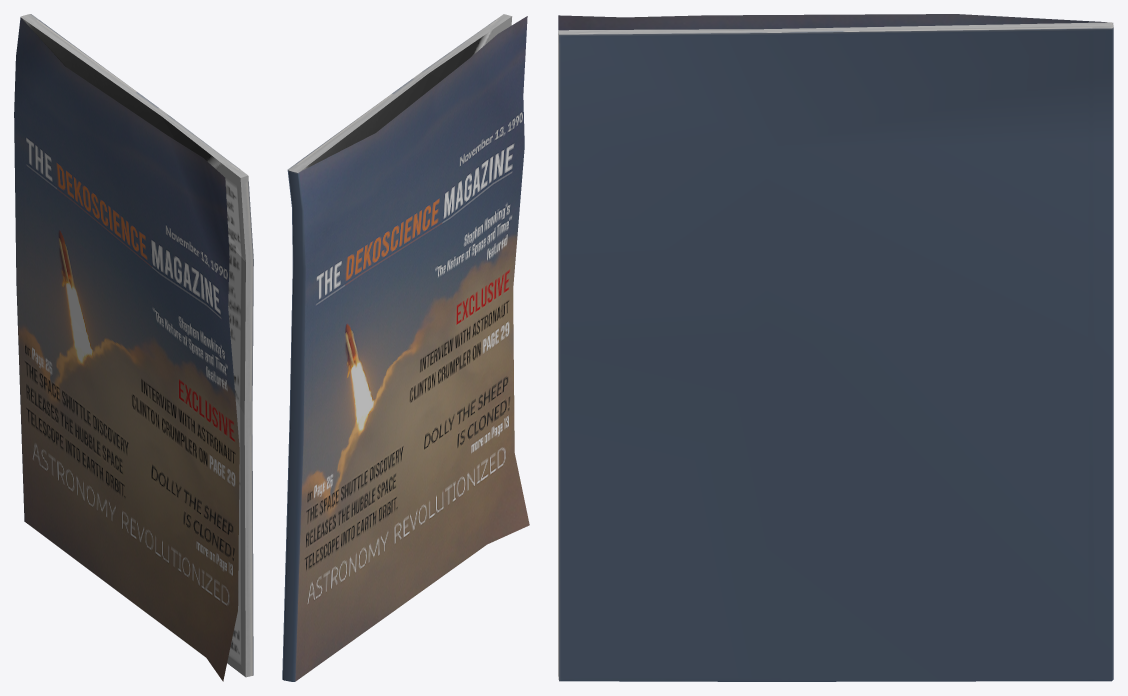
File: SM_Magazines_01a.fbx
3 views of the same model, side by side, from view 1: azimuth 30°, elevation 25°; view 2: azimuth 150°, elevation 25°; view 3: azimuth 270°, elevation 25° (orthographic). The views are drawn at different scales.
Parts seen in each view (by area): view 1: SM_Magazines_01a_LOD0; view 2: SM_Magazines_01a_LOD0; view 3: SM_Magazines_01a_LOD0.
Boxes of the visible parts, <box> form: SM_Magazines_01a_LOD0: <box>14,14,253,681</box>; SM_Magazines_01a_LOD0: <box>282,14,529,681</box>; SM_Magazines_01a_LOD0: <box>558,14,1113,681</box>.
Size of the model in its own units: 1.95 by 21.46 by 27.7.
